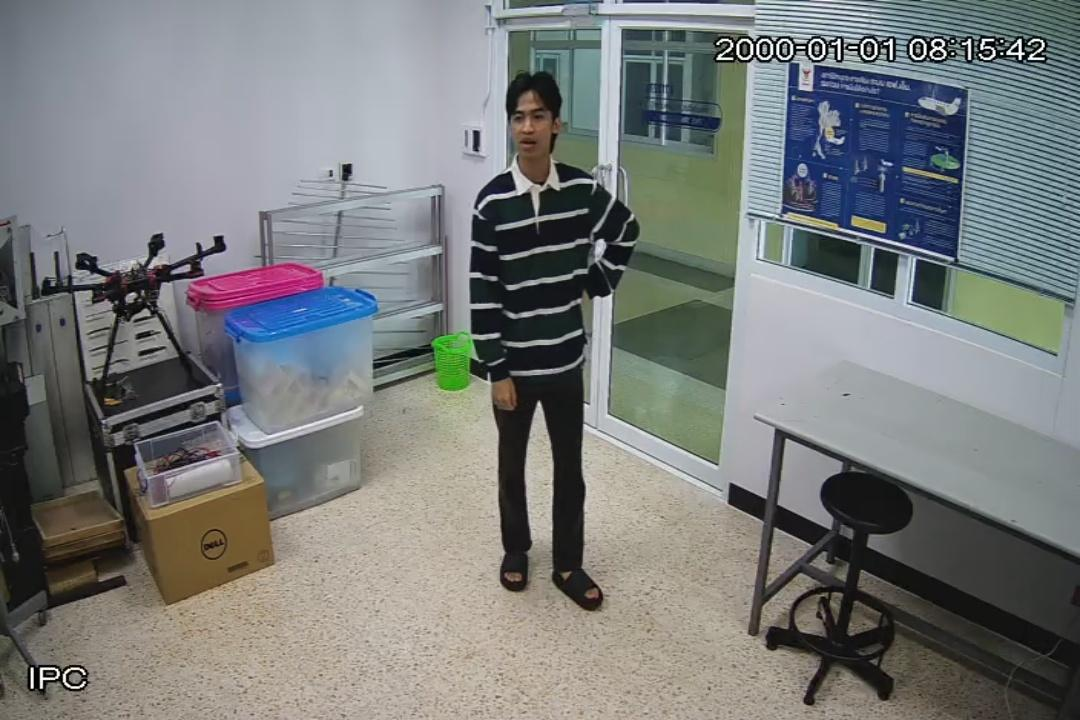normal: (466, 66, 642, 618)
